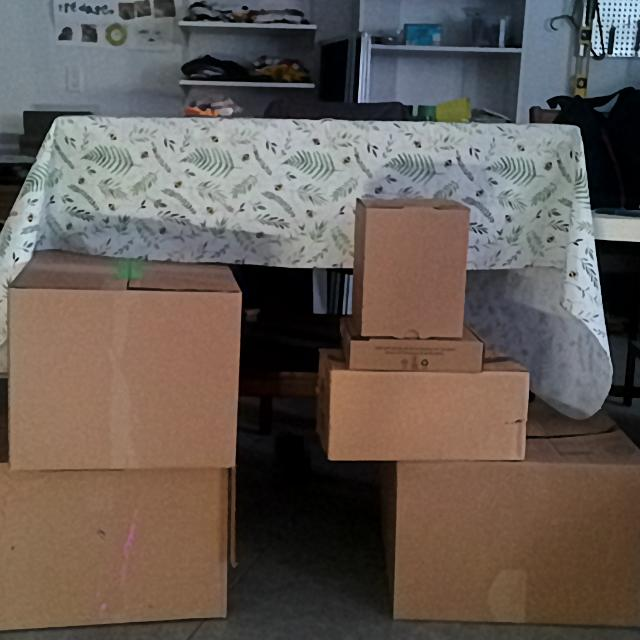box: (9, 286, 236, 468), (393, 463, 640, 620), (0, 466, 224, 621), (329, 370, 526, 459), (362, 207, 464, 339), (348, 339, 483, 372)
